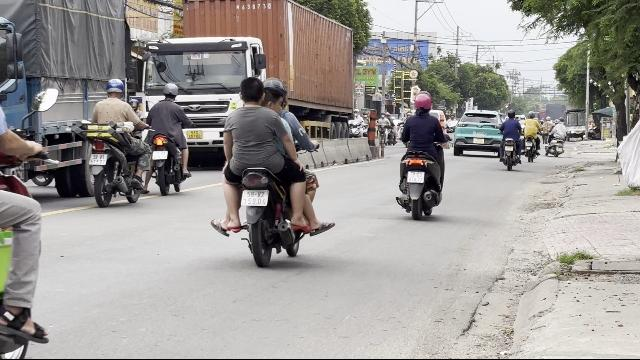helmet: (412, 92, 432, 114), (105, 78, 125, 98), (262, 77, 286, 93), (161, 82, 177, 100)
licenseplate: (241, 190, 269, 206), (89, 154, 107, 166), (152, 150, 168, 160), (408, 172, 424, 182)
motorcyclist: (210, 75, 330, 267), (83, 78, 147, 206), (393, 92, 449, 219), (144, 82, 192, 195)
nohelmet: (237, 76, 265, 105), (262, 88, 286, 115)
